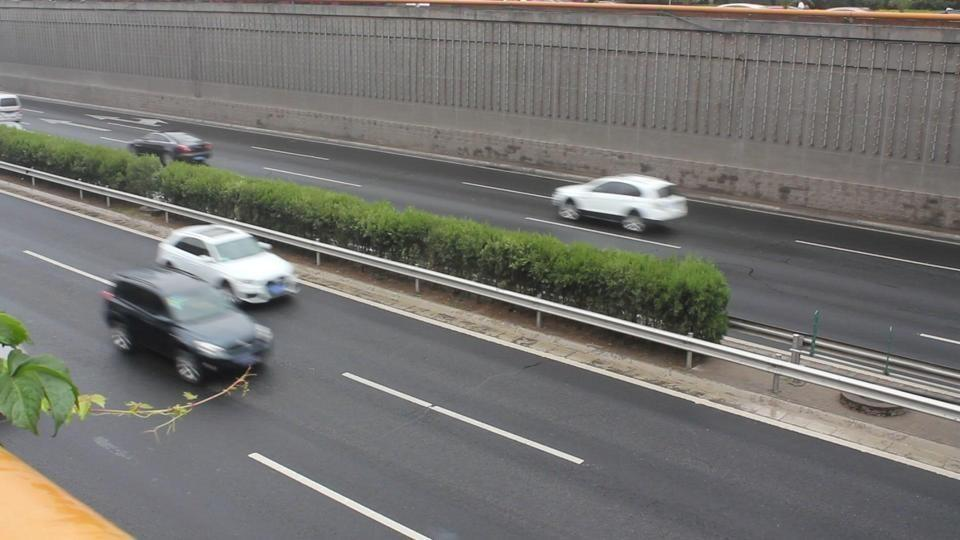car: (96, 264, 275, 384), (155, 223, 299, 305), (550, 174, 688, 234), (128, 130, 214, 166), (0, 94, 24, 125)
